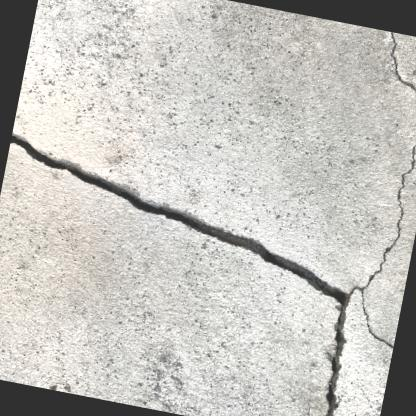crack: (8, 132, 351, 416), (354, 30, 416, 352)
